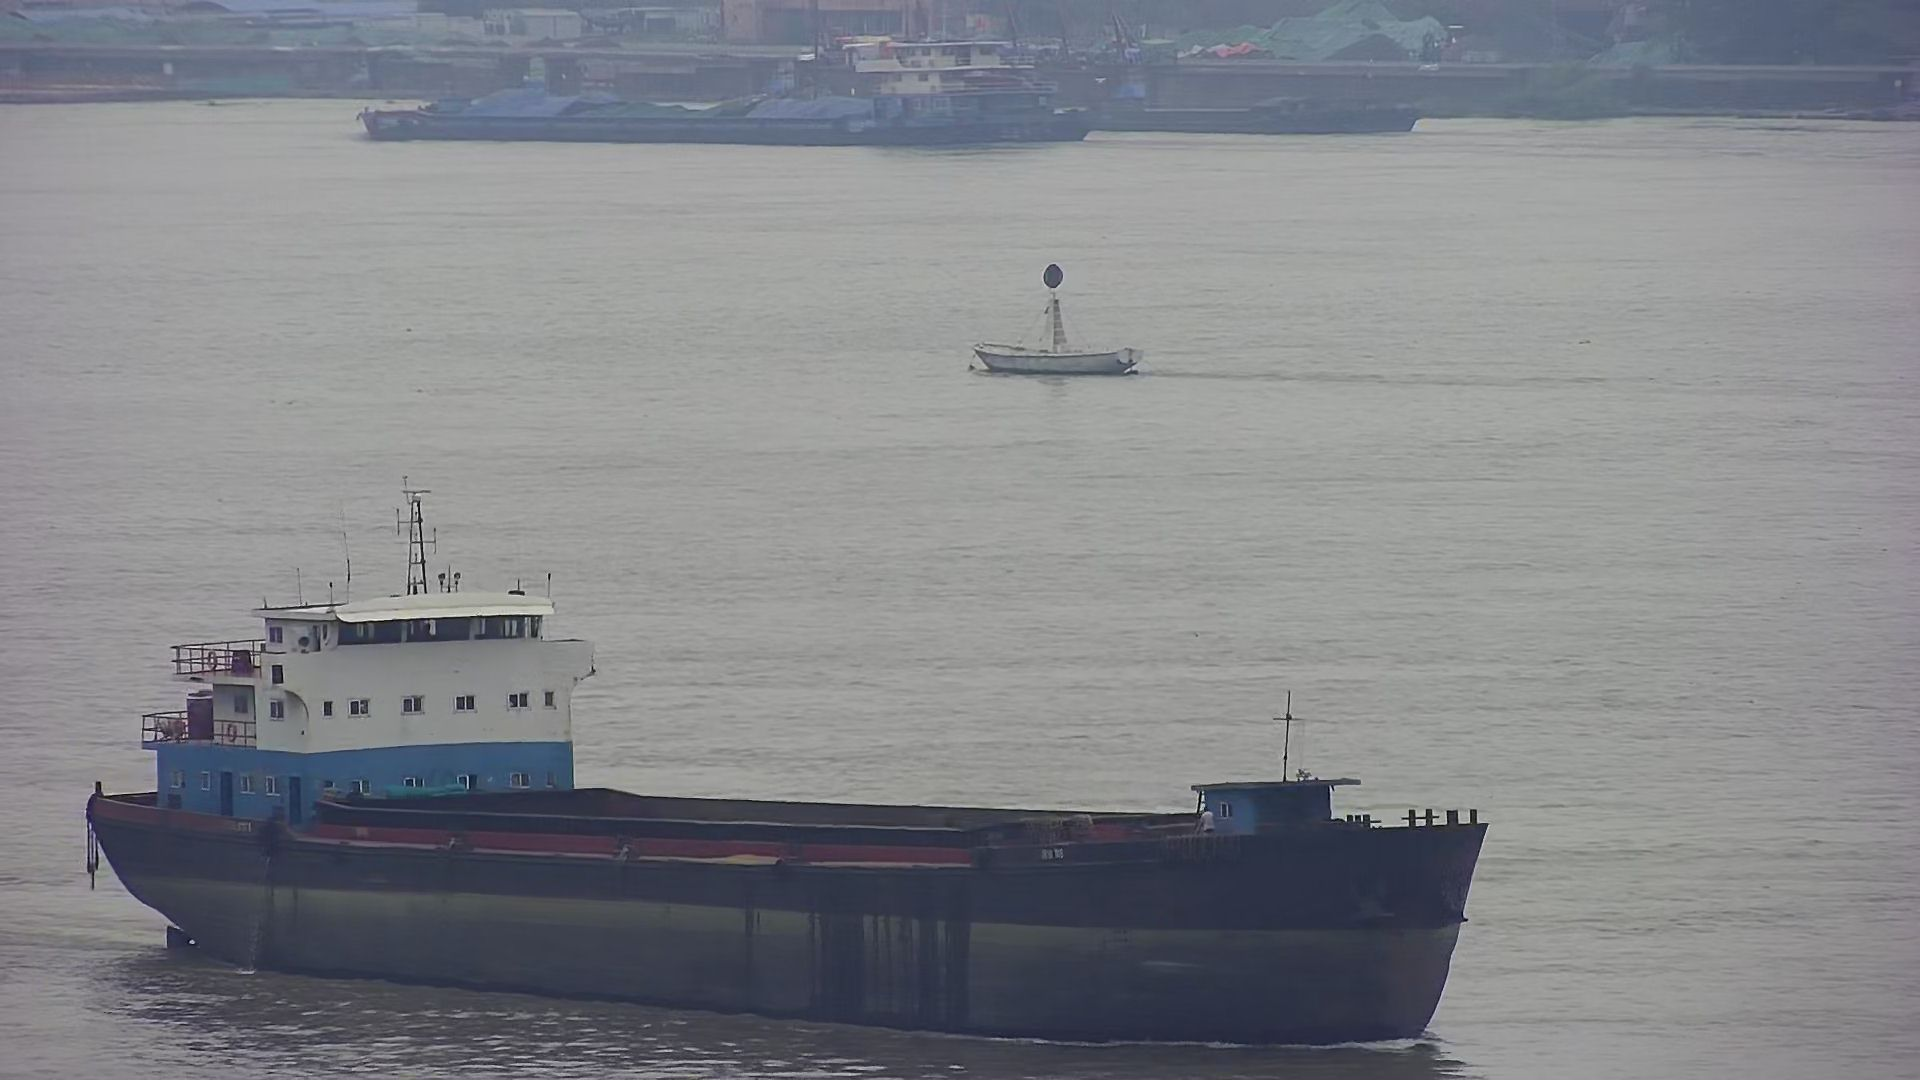boat: (971, 268, 1145, 372), (1089, 94, 1418, 136)
ship: (91, 589, 1489, 1040), (363, 41, 1091, 145)
